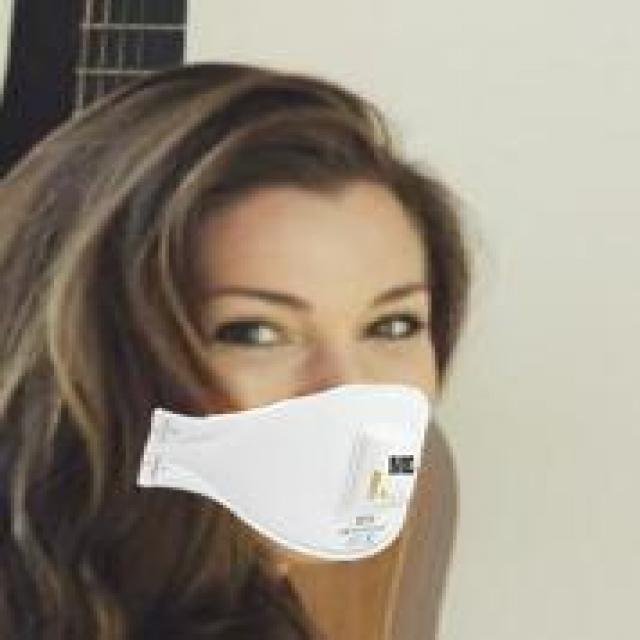mask: (44, 59, 504, 584)
